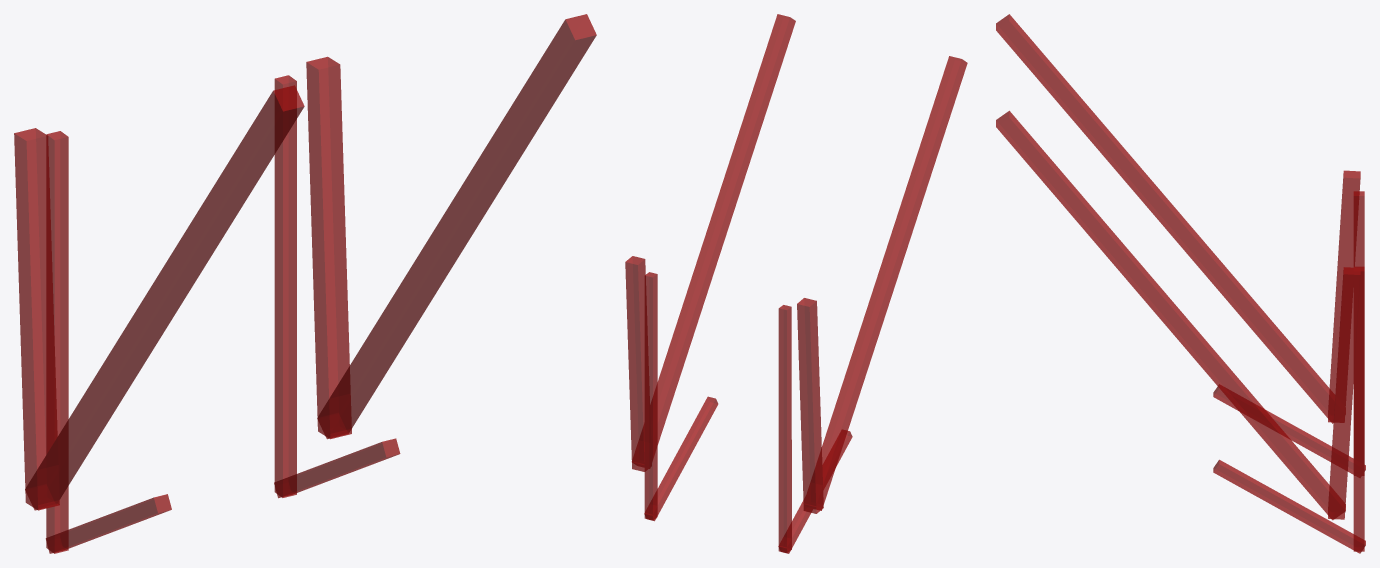
The model's file is SM_Bld_Crane_01_Arm_Brackets_Up_Collision.fbx.
3 renders of one model, left to right at view 1: azimuth 30°, elevation 25°; view 2: azimuth 150°, elevation 25°; view 3: azimuth 270°, elevation 25°, orthographic. The views are drawn at different scales.
Visible parts, largest first — view 1: SM_Bld_Crane_01_Arm_Brackets_Up_Collision; view 2: SM_Bld_Crane_01_Arm_Brackets_Up_Collision; view 3: SM_Bld_Crane_01_Arm_Brackets_Up_Collision.
Boxes of the visible parts, x1,y1,x2,y2 form: SM_Bld_Crane_01_Arm_Brackets_Up_Collision: (14, 14, 596, 553); SM_Bld_Crane_01_Arm_Brackets_Up_Collision: (625, 14, 967, 553); SM_Bld_Crane_01_Arm_Brackets_Up_Collision: (996, 14, 1365, 553).
Size of the model in its own units: 1461 by 2942 by 2200.
